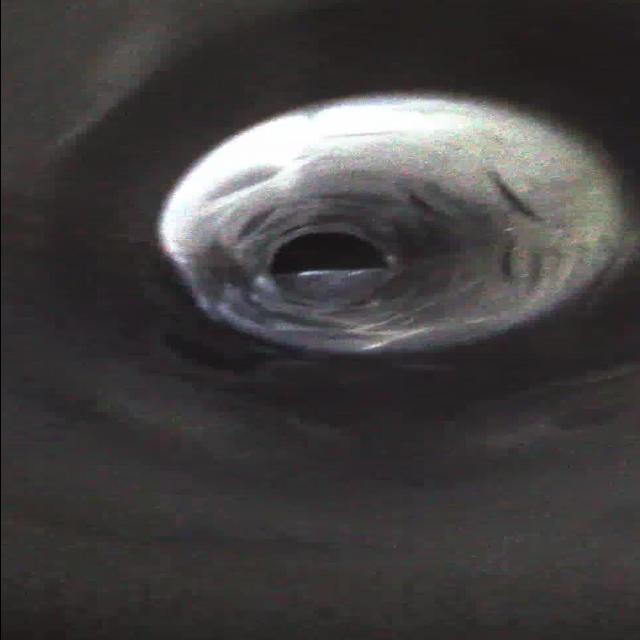crack: (473, 224, 564, 298), (332, 307, 440, 361), (200, 290, 277, 356), (292, 178, 366, 228), (388, 180, 458, 225)
